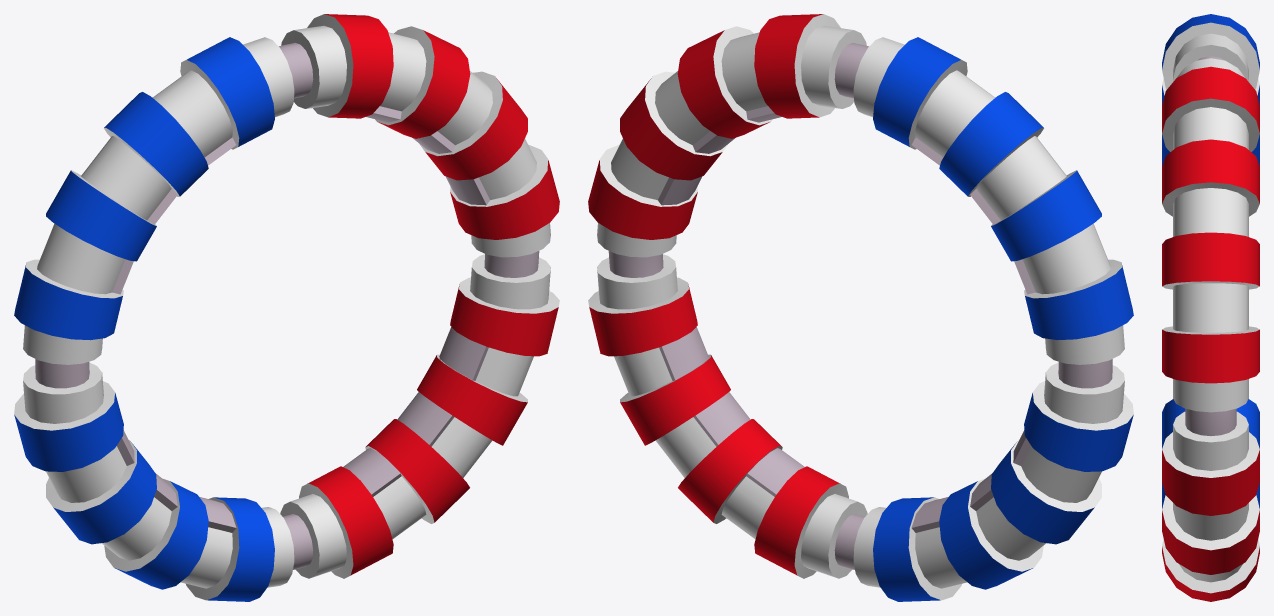
File: Portal_redondo.fbx
The picture shows the model from 3 angles, left to right: view 1: azimuth 30°, elevation 25°; view 2: azimuth 150°, elevation 25°; view 3: azimuth 270°, elevation 25°; orthographic projection. The views are drawn at different scales.
Visible parts, largest first — view 1: Torus.001; view 2: Torus.001; view 3: Torus.001.
Part boxes in pixels (x1,y1,x2,y2): Torus.001: (14, 14, 559, 601); Torus.001: (588, 14, 1133, 601); Torus.001: (1162, 14, 1259, 601).
Size of the model in its own units: 3.07 by 3.07 by 0.5167.
